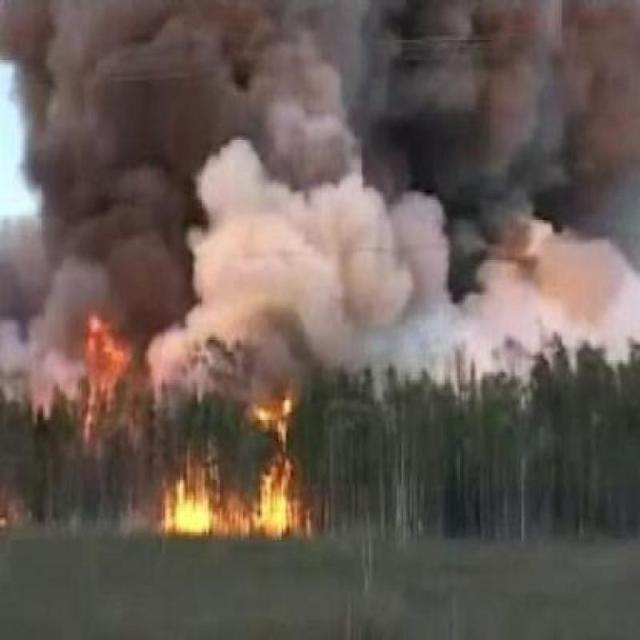Fire: (54, 325, 306, 540)
Smoke: (0, 21, 640, 329)
